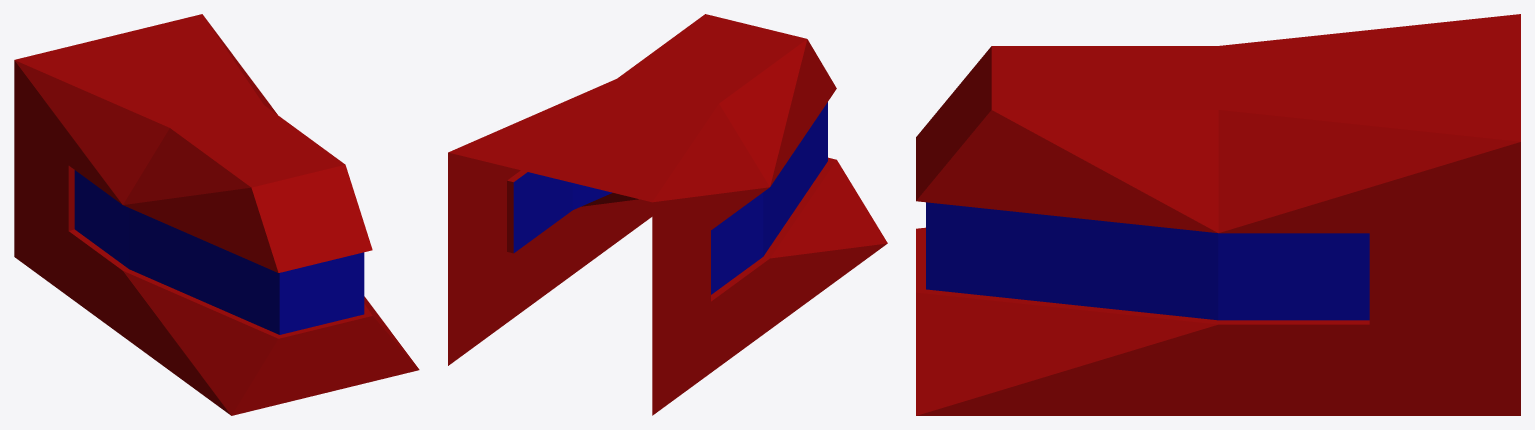
File: Bridge.obj
3 views of the same model, side by side, from view 1: azimuth 30°, elevation 25°; view 2: azimuth 150°, elevation 25°; view 3: azimuth 270°, elevation 25° (orthographic). The views are drawn at different scales.
Visible parts, largest first — view 1: Cube; view 2: Cube; view 3: Cube.
Part boxes in pixels (box(x1,y1,x2,y2)): Cube: box(14, 14, 419, 415); Cube: box(448, 14, 887, 415); Cube: box(916, 14, 1520, 415).
Bounding box in the file's own units: 3 × 3 × 6.
